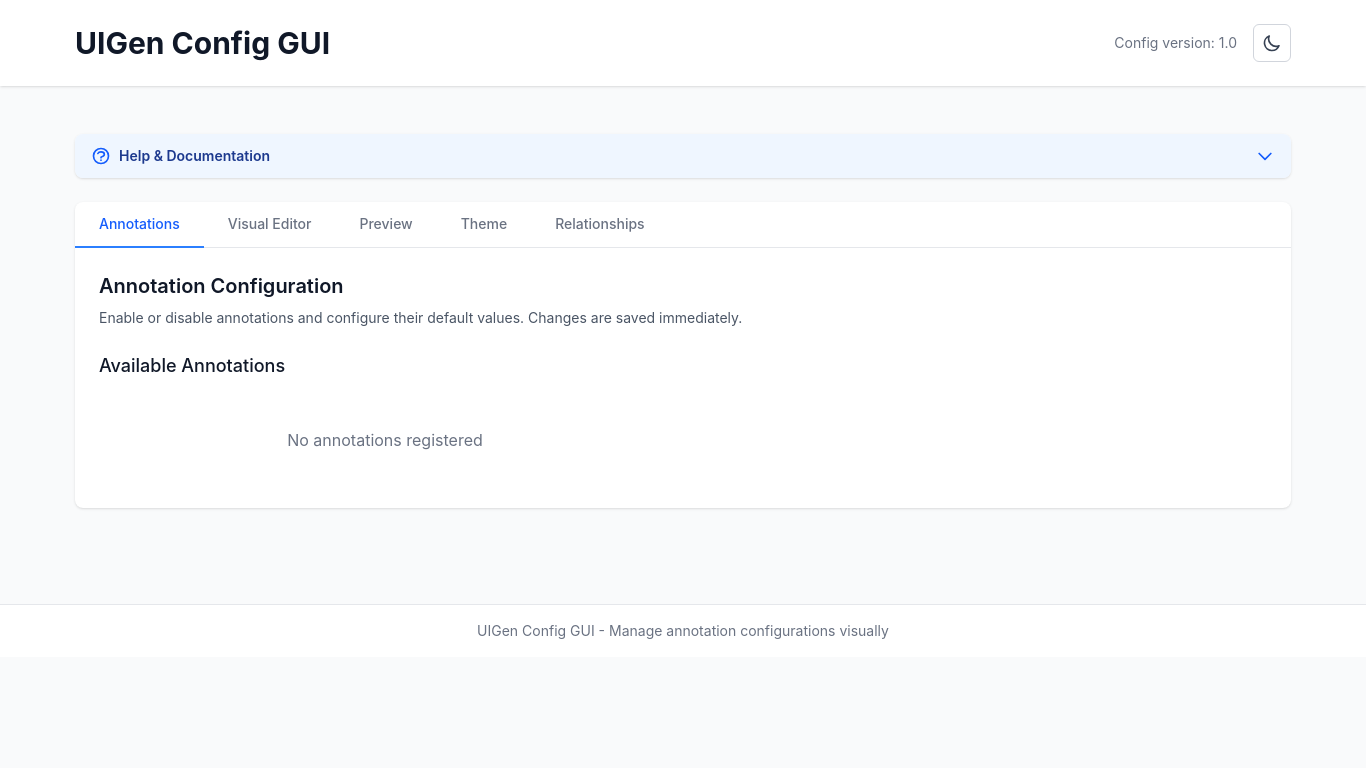
Test: App › should display error message when CSS loading fails
Click CSS tab
Click the button with test id "css-tab".
click(484, 225)  # box [437,202,531,248]
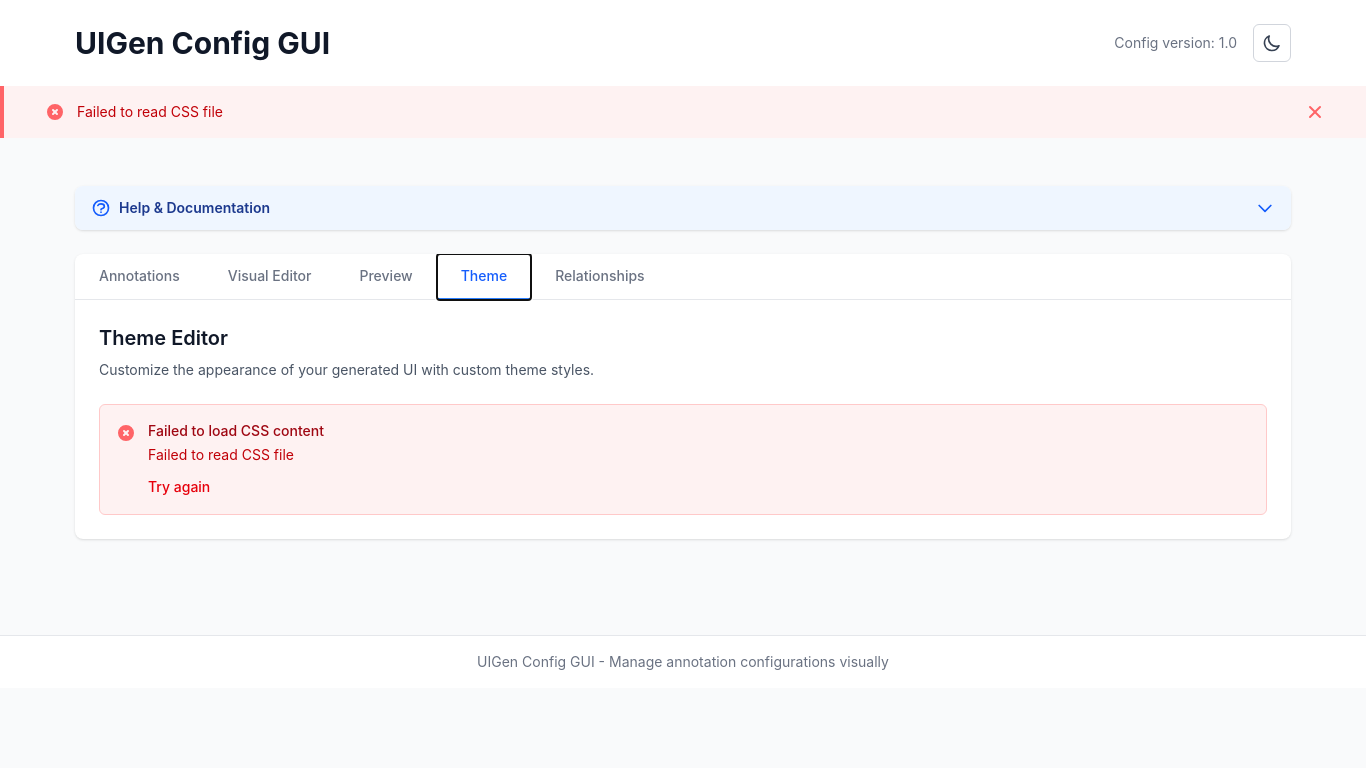
expect the heading "Failed to load CSS content" is shown: met, box [148,422,324,439]
expect the 1st text "Failed to read CSS file" is shown: met, box [77,102,223,122]
expect the button "Try again" is shown: met, box [148,477,210,497]
